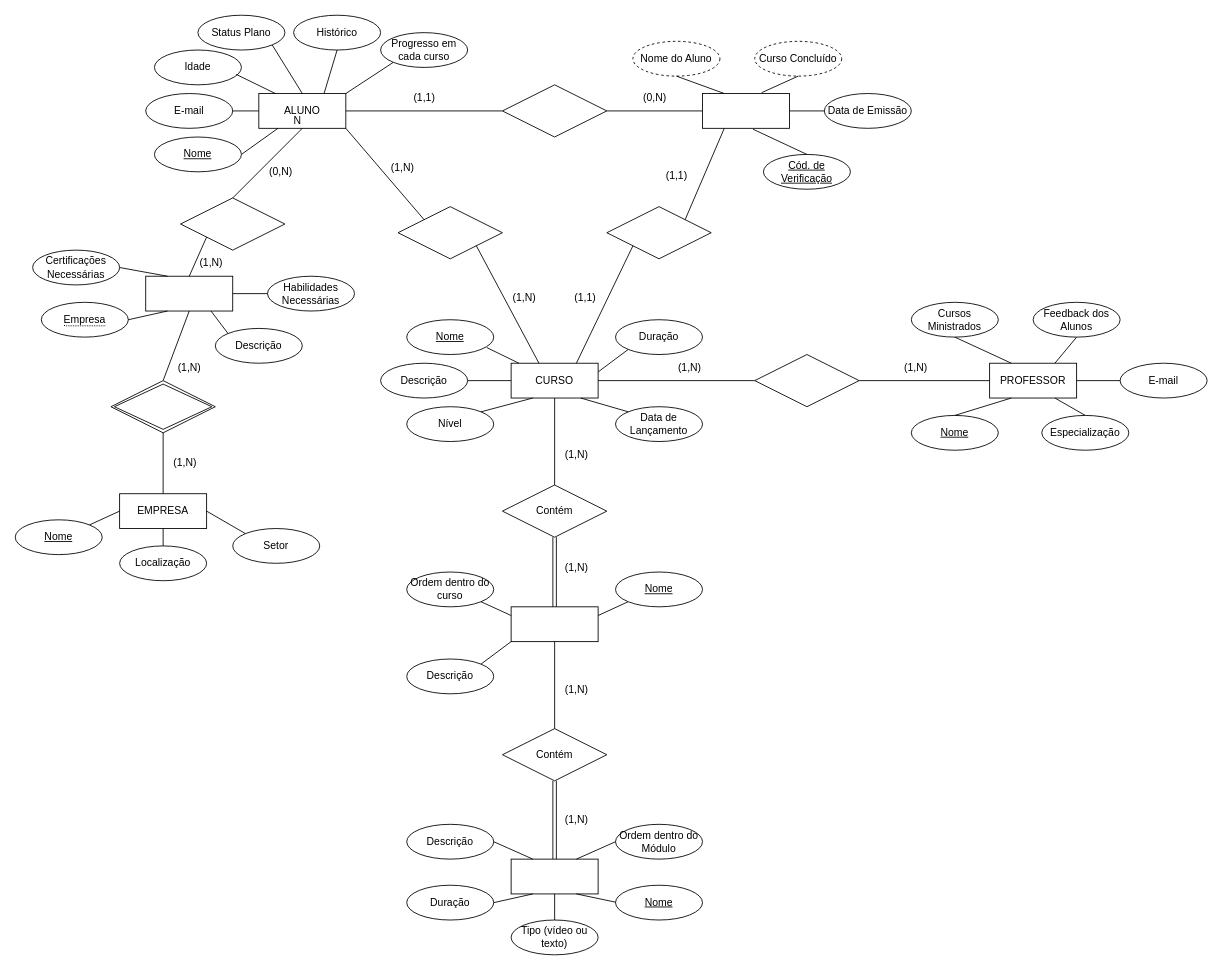
This 1222x970 diagram has some shape labels left out. The shapes that lost their labels are listed below. From the top down, each one's centre as x and y in pixels, then its label:
At [554,110]: "Recebem".
At [746,110]: "CERTIFICADO".
At [232,223]: "Se qualificam a".
At [449,232]: "Estudam".
At [658,232]: "Geram".
At [189,293]: "VAGA".
At [806,380]: "Ministram".
At [162,406]: "Oferecem".
At [554,624]: "MÓDULO".
At [554,876]: "AULA".
